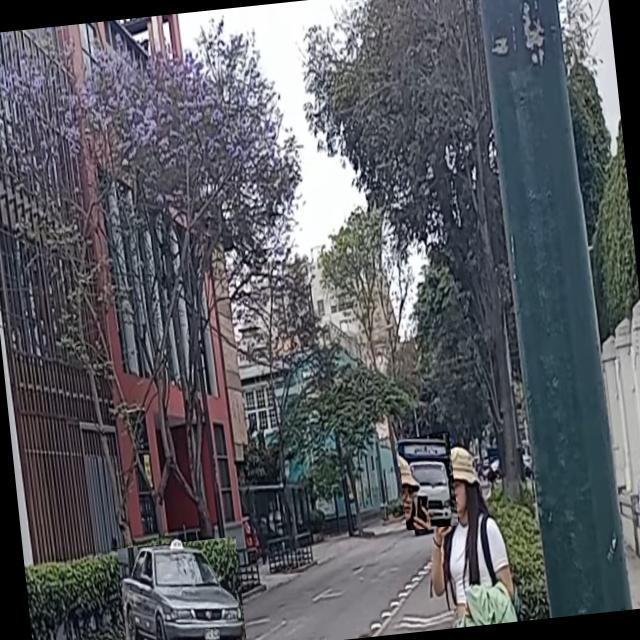car: (117, 536, 247, 640)
truck: (397, 434, 458, 530)
